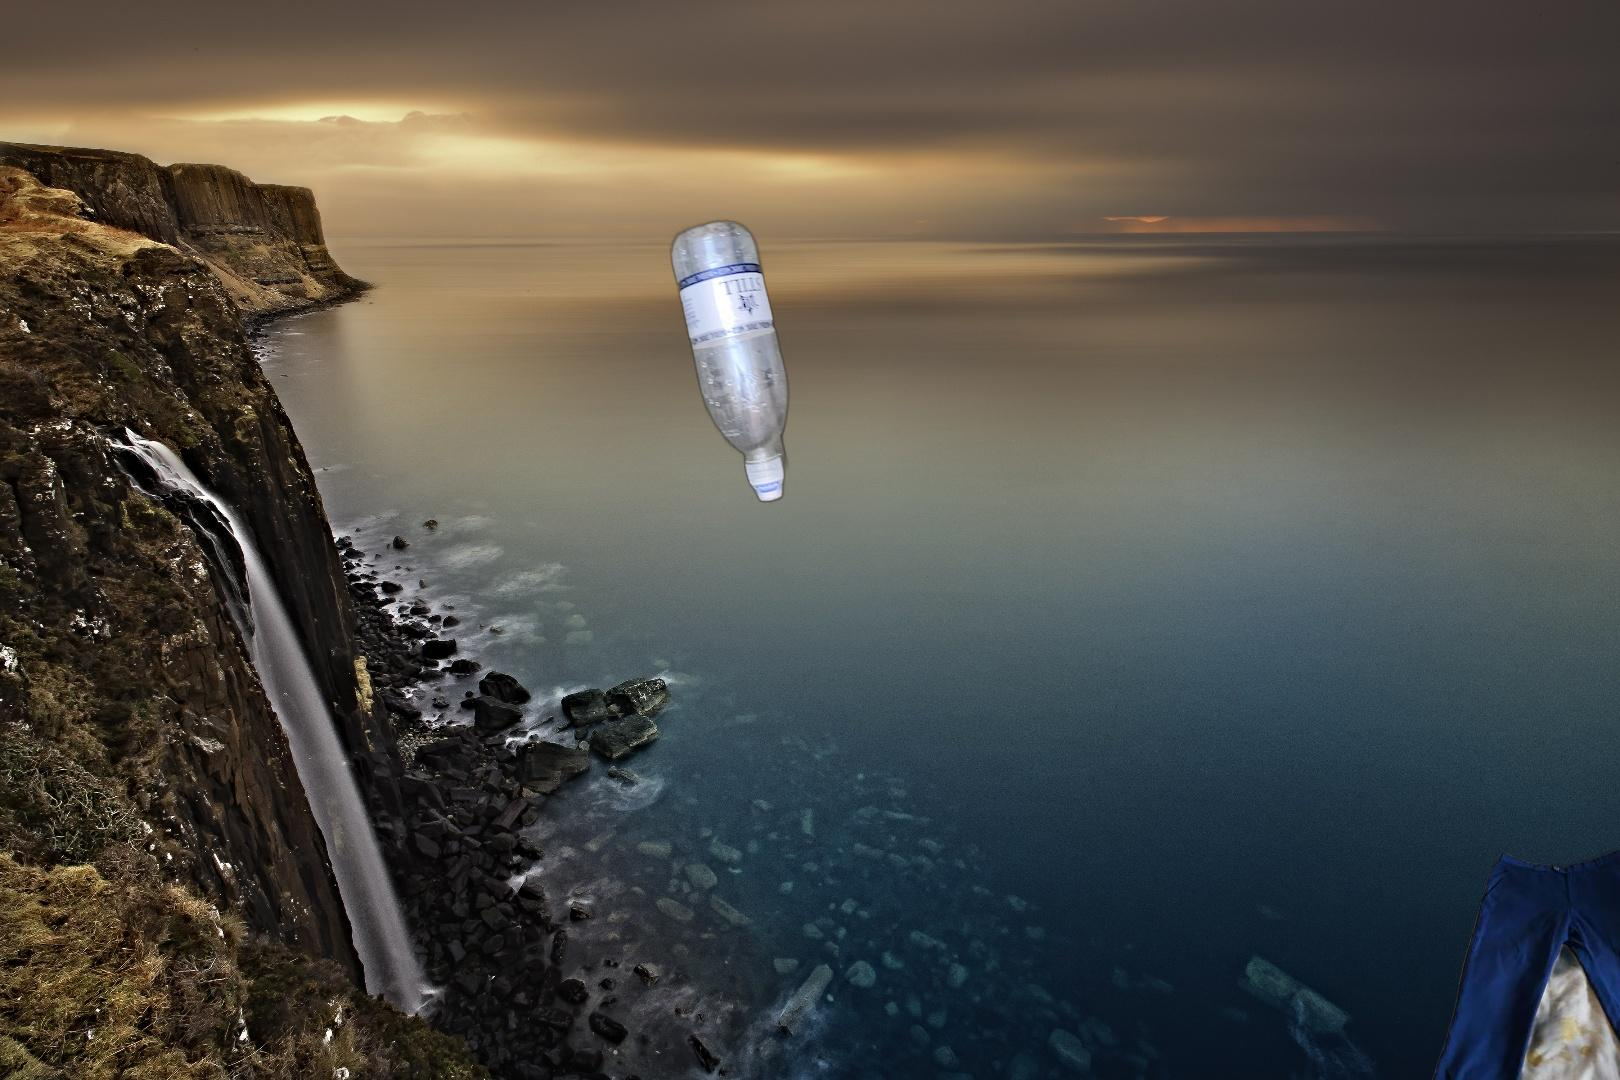clothes: (1412, 845, 1620, 1080)
plastic-bottles: (666, 215, 793, 508)
